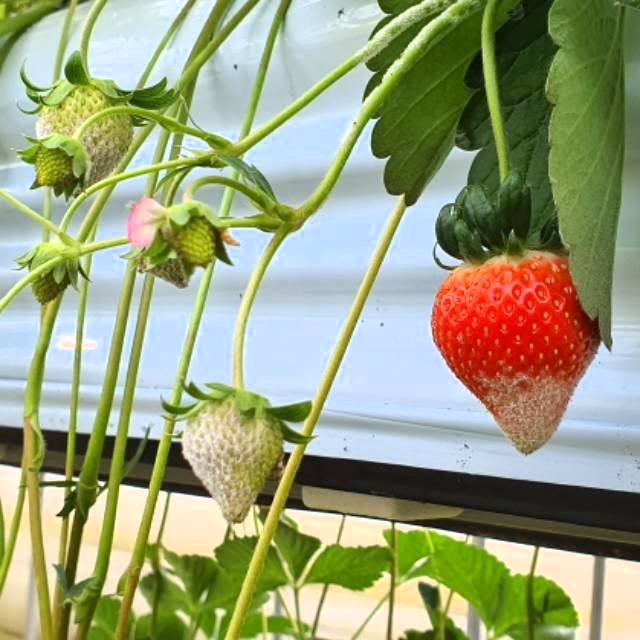Powdery Mildew Fruit: (473, 343, 604, 454), (184, 394, 284, 521), (38, 85, 134, 193)
